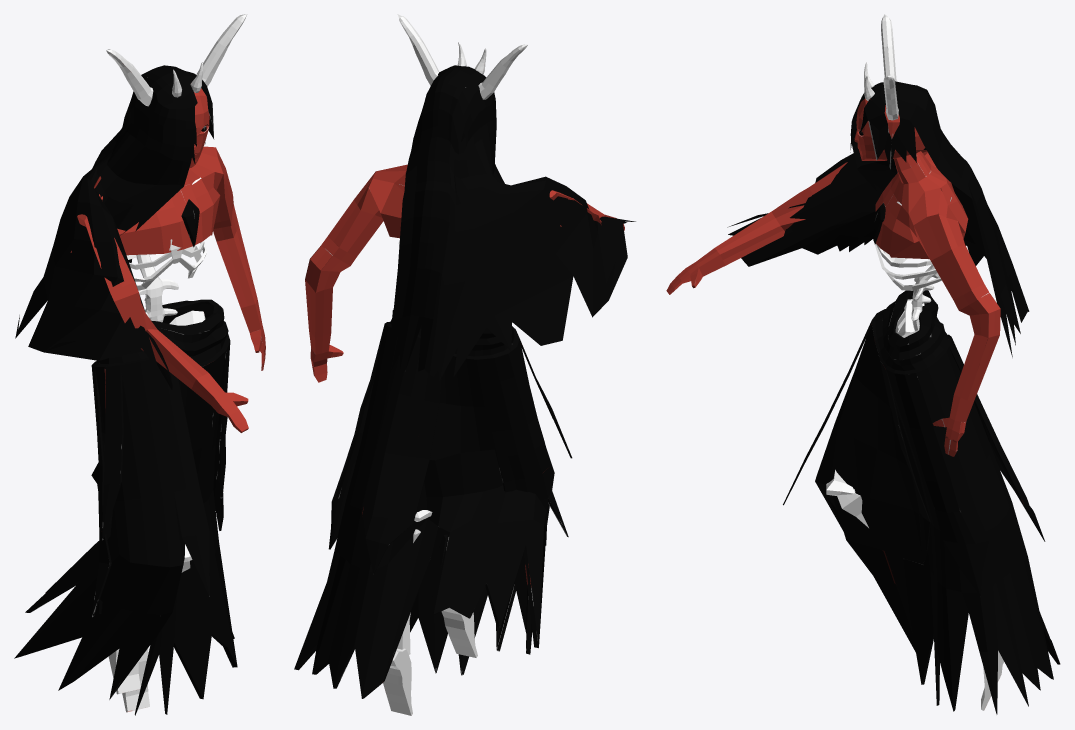
The model's file is cursedqueenattack_20.fbx.
3 views of the same model, side by side, from view 1: azimuth 30°, elevation 25°; view 2: azimuth 150°, elevation 25°; view 3: azimuth 270°, elevation 25° (orthographic). The views are drawn at different scales.
Visible parts, largest first — view 1: cursed_queen; view 2: cursed_queen; view 3: cursed_queen.
Part boxes in pixels (x1=…): cursed_queen: x1=14, y1=14, x2=265, y2=715; cursed_queen: x1=294, y1=14, x2=635, y2=715; cursed_queen: x1=666, y1=14, x2=1060, y2=714.
Size of the model in its own units: 111 by 277 by 151.
